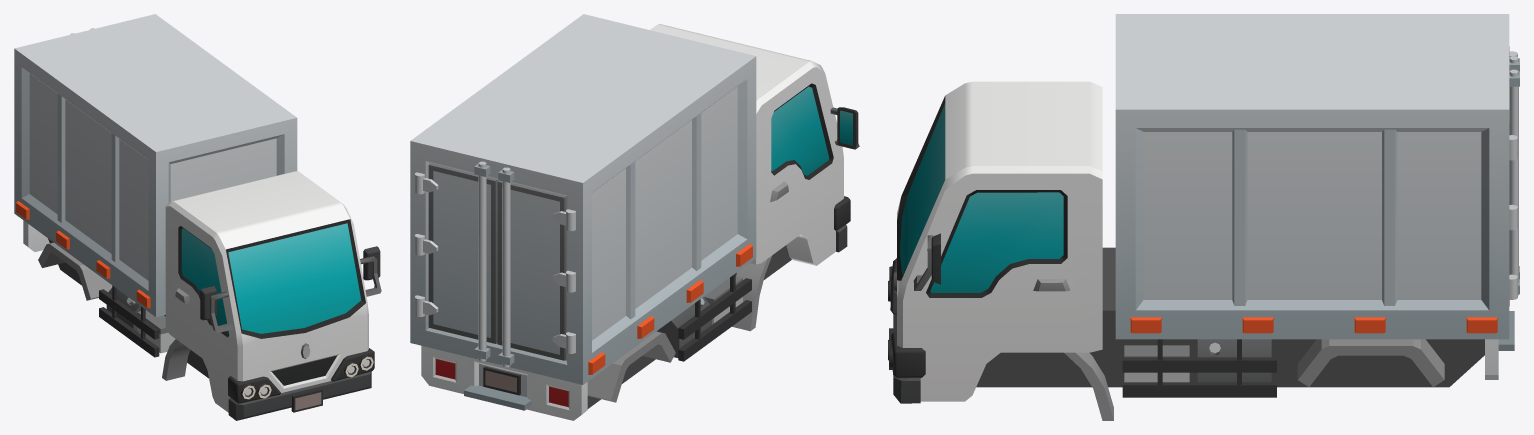
Rendered from cargo_truck_001.glb.
3 renders of one model, left to right at view 1: azimuth 30°, elevation 25°; view 2: azimuth 150°, elevation 25°; view 3: azimuth 270°, elevation 25°, orthographic. The views are drawn at different scales.
Parts seen in each view (by area): view 1: cargo_truck_001; view 2: cargo_truck_001; view 3: cargo_truck_001.
Part boxes in pixels (x1,y1,x2,y2): cargo_truck_001: [14, 14, 381, 420]; cargo_truck_001: [410, 14, 859, 420]; cargo_truck_001: [888, 14, 1519, 420].
Size of the model in its own units: 2.98 by 3.63 by 6.6.
2 materials, 2 textured.
